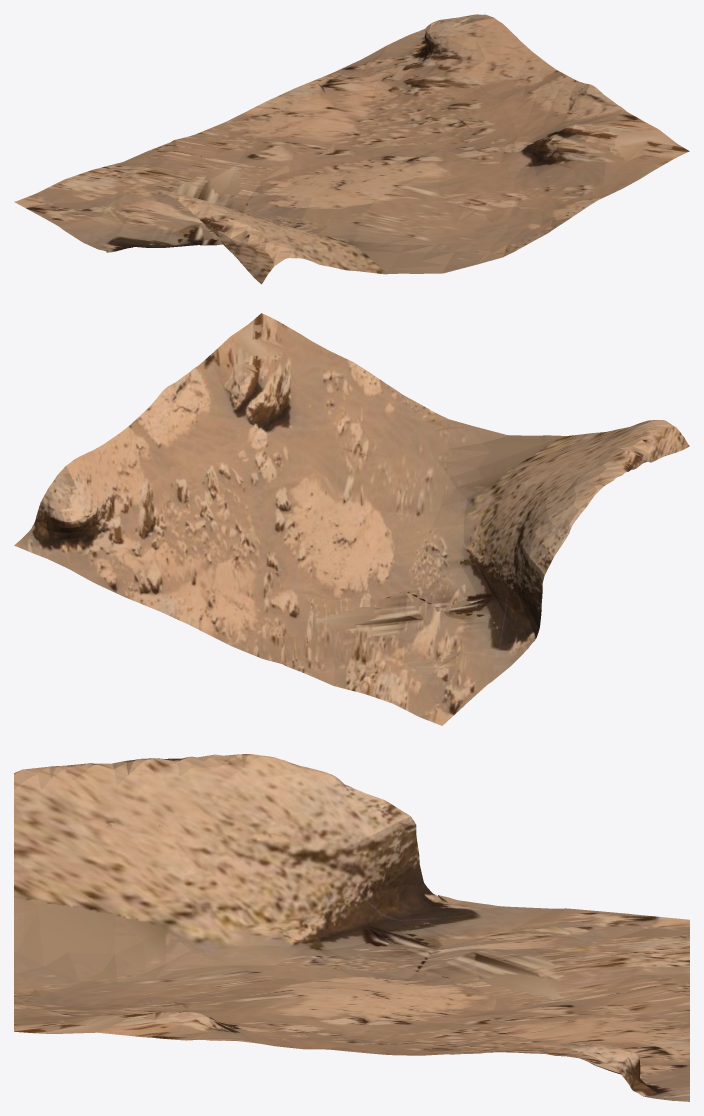
The picture shows the model from 3 angles, top to bottom: view 1: azimuth 30°, elevation 25°; view 2: azimuth 150°, elevation 25°; view 3: azimuth 270°, elevation 25°; orthographic projection. The views are drawn at different scales.
Size of the model in its own units: 2.09 by 0.5922 by 2.09.
2 materials, 2 textured.
